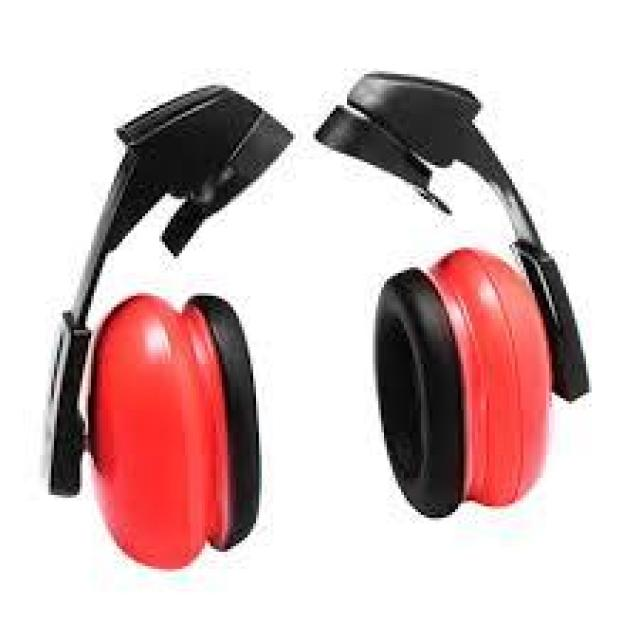Ear-protection: (73, 68, 578, 540)
